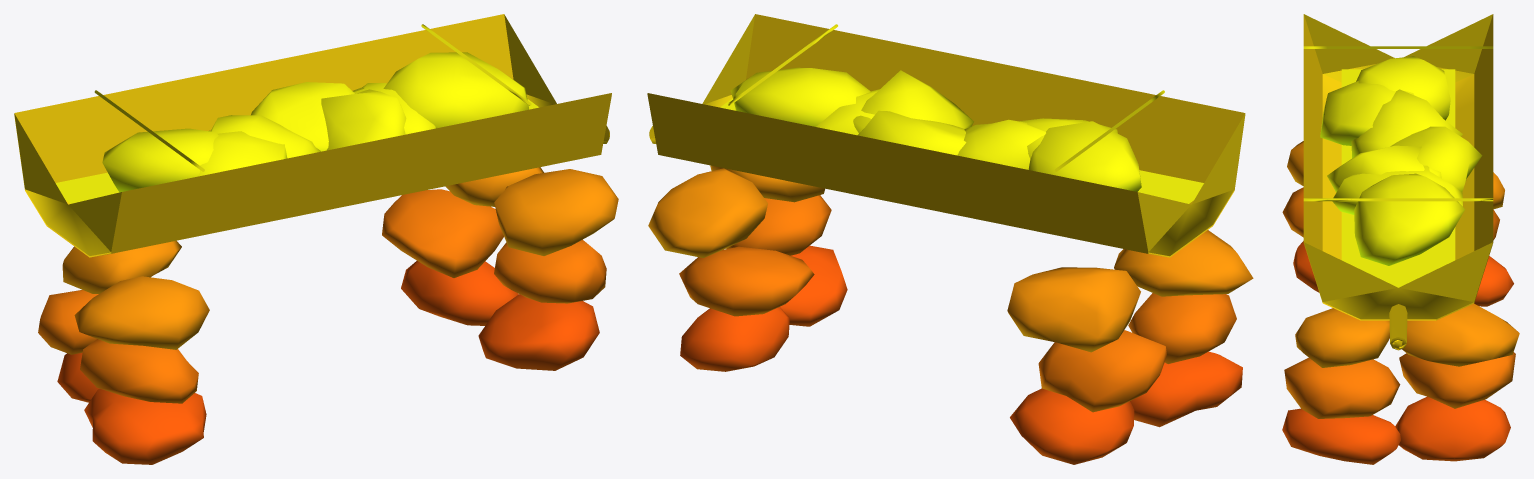
File: camp_snow_melter.glb
The picture shows the model from 3 angles, left to right: view 1: azimuth 30°, elevation 25°; view 2: azimuth 150°, elevation 25°; view 3: azimuth 270°, elevation 25°; orthographic projection. The views are drawn at different scales.
Parts seen in each view (by area): view 1: Model, Snow, Water; view 2: Model, Snow, Water; view 3: Model, Snow, Water.
Boxes of the visible parts, left/top/right/bottom form: Model: left=14, top=14, right=618, bottom=464; Snow: left=102, top=52, right=529, bottom=192; Water: left=55, top=99, right=538, bottom=203; Model: left=647, top=14, right=1253, bottom=464; Snow: left=730, top=67, right=1141, bottom=191; Water: left=720, top=98, right=1203, bottom=203; Model: left=1282, top=14, right=1519, bottom=464; Snow: left=1320, top=56, right=1482, bottom=265; Water: left=1341, top=69, right=1455, bottom=287.
Size of the model in its own units: 1.21 by 0.5916 by 0.5021.
